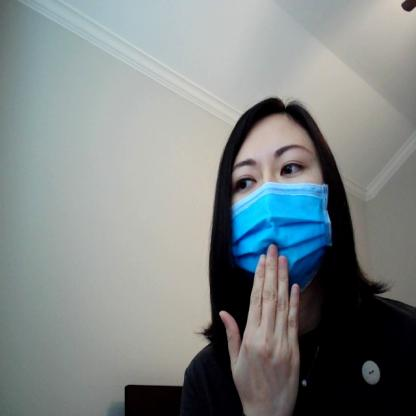thanks: (211, 241, 308, 415)
